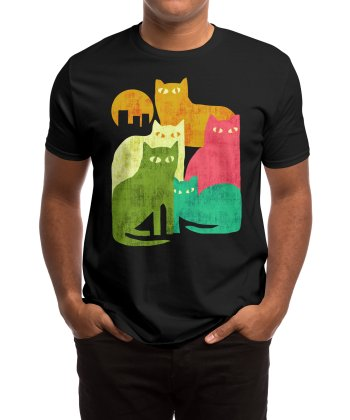design: (107, 75, 245, 253)
